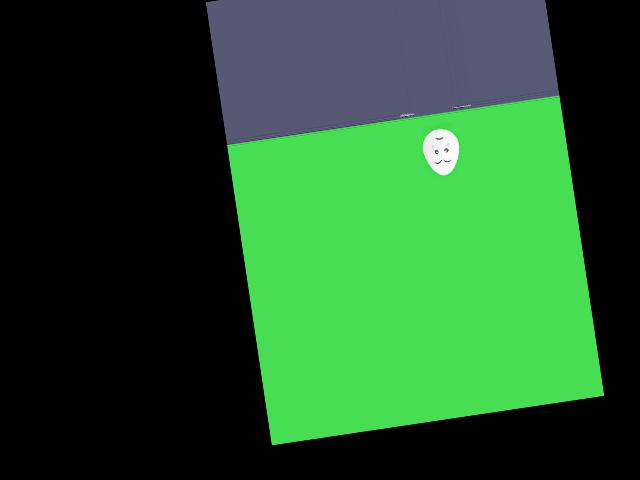egg: (420, 126, 463, 177)
